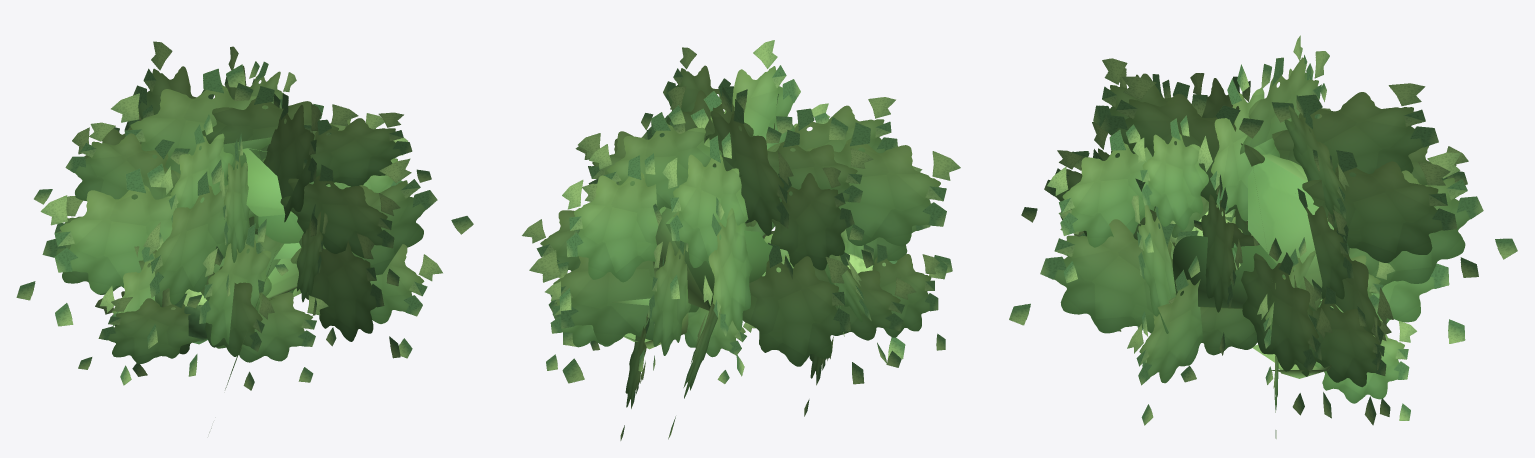
Rendered from oak_canopy.gltf.
The picture shows the model from 3 angles, left to right: view 1: azimuth 30°, elevation 25°; view 2: azimuth 150°, elevation 25°; view 3: azimuth 270°, elevation 25°; orthographic projection. The views are drawn at different scales.
Parts seen in each view (by area): view 1: oak_canopy; view 2: oak_canopy; view 3: oak_canopy.
Part boxes in pixels (x1=…): oak_canopy: x1=16, y1=41, x2=473, y2=432; oak_canopy: x1=522, y1=40, x2=960, y2=440; oak_canopy: x1=1009, y1=35, x2=1517, y2=438.
Bounding box in the file's own units: 7.71 × 6.58 × 8.49.
1 material, 1 textured.
